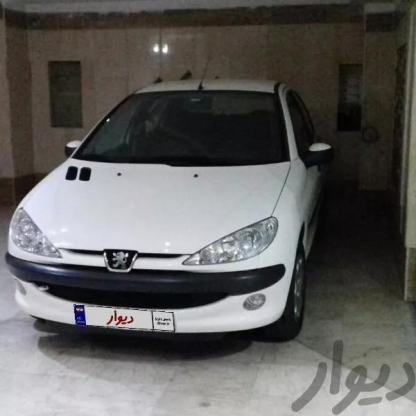Car: (14, 78, 335, 357)
